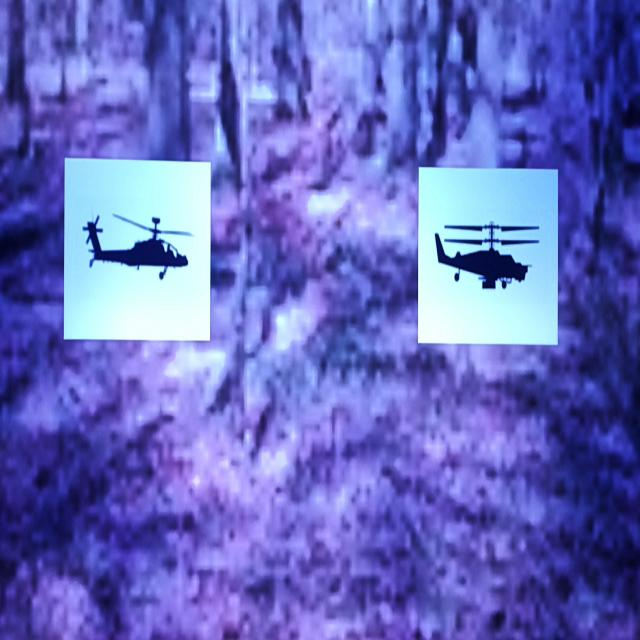Apache friendly: (83, 214, 192, 279)
Ka-52 Enemy: (436, 223, 539, 288)
